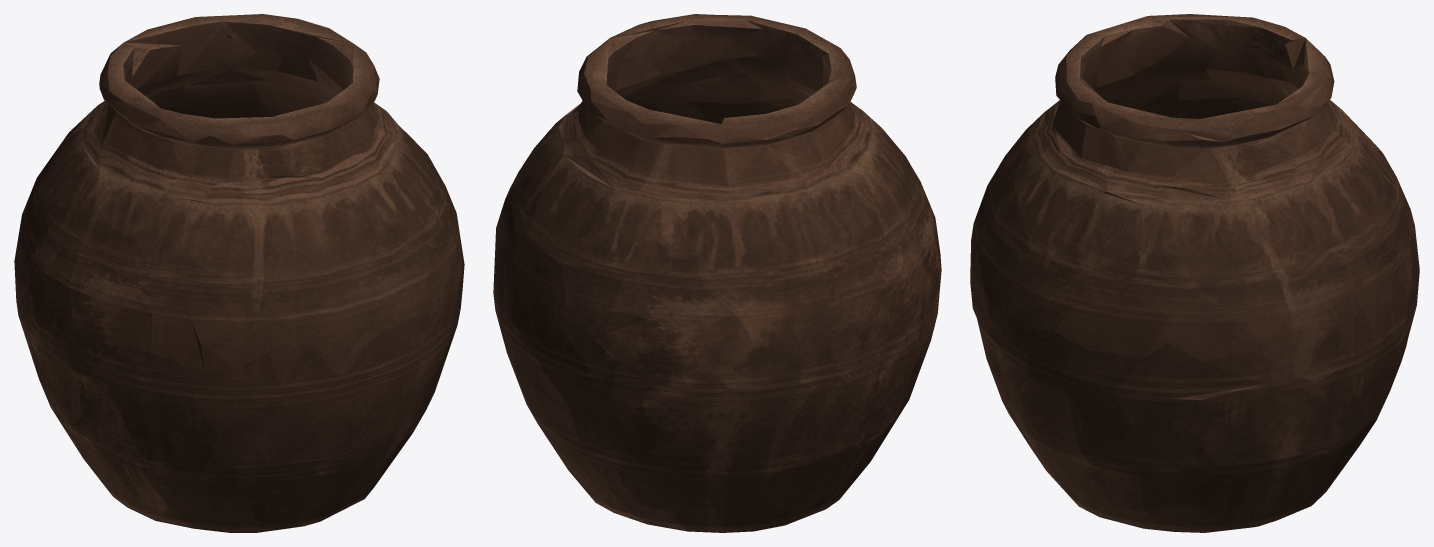
The model's file is onggi_jar.glb.
The picture shows the model from 3 angles, left to right: view 1: azimuth 30°, elevation 25°; view 2: azimuth 150°, elevation 25°; view 3: azimuth 270°, elevation 25°; orthographic projection.
Visible parts, largest first — view 1: onggi_jar; view 2: onggi_jar; view 3: onggi_jar.
Boxes of the visible parts, x1,y1,x2,y2 form: onggi_jar: [14, 14, 464, 532]; onggi_jar: [493, 14, 941, 532]; onggi_jar: [970, 14, 1419, 532].
Bounding box in the file's own units: 0.7129 × 0.72 × 0.712.
Materials: 1 (1 with a texture image).
